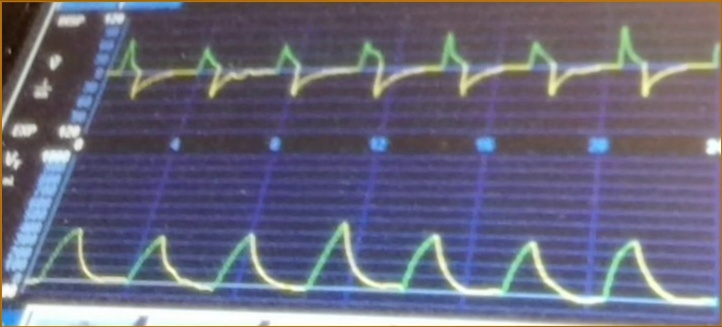Premature_cycling Flow: (110, 25, 719, 122)
Premature_cycling Volume: (36, 218, 718, 310)
